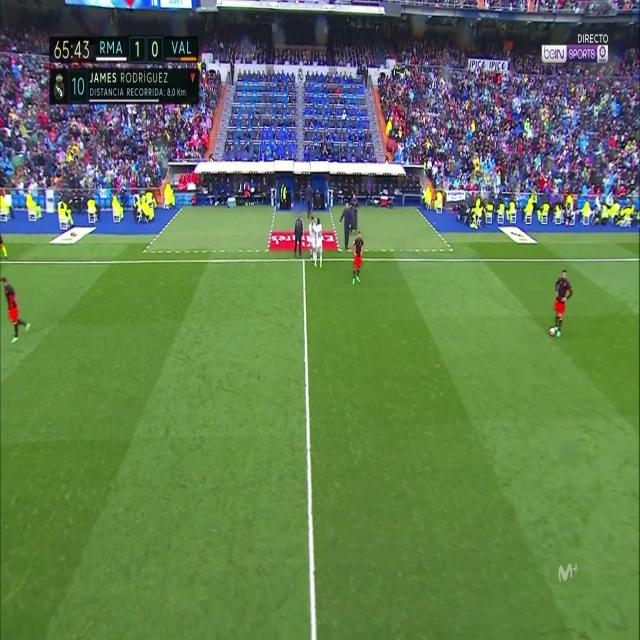Ball: (548, 326, 556, 341)
Player: (0, 274, 32, 346), (554, 267, 574, 343), (350, 232, 366, 288), (313, 218, 323, 269), (307, 215, 317, 263)
